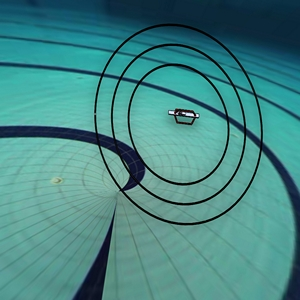circle: (74, 8, 271, 230)
submarine: (162, 99, 204, 134)
